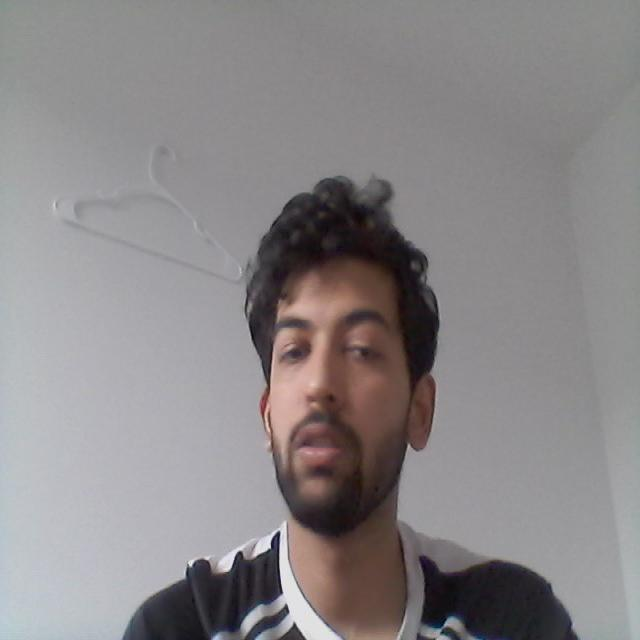nocap: (222, 160, 480, 388)
